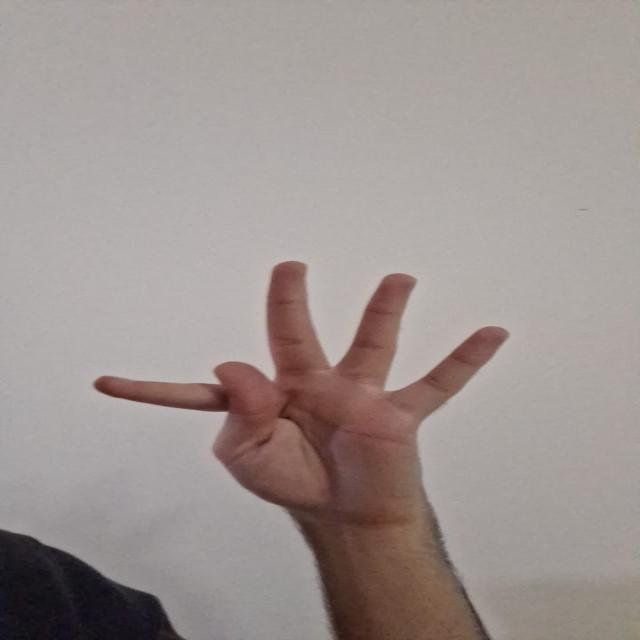T: (81, 258, 518, 502)
